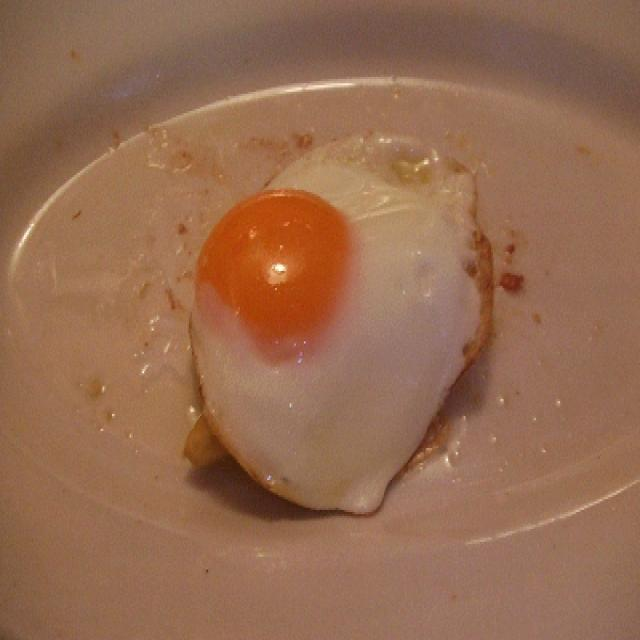鸡蛋料理: (197, 117, 498, 508)
